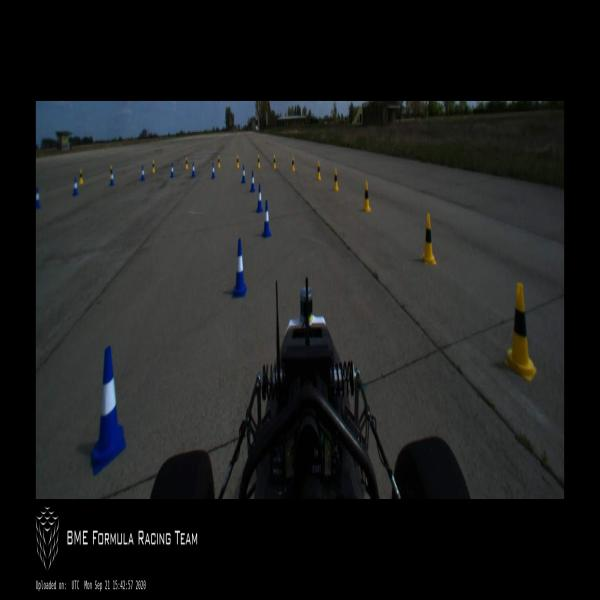blue_cone: (91, 346, 125, 476), (231, 238, 246, 297), (262, 200, 271, 238), (256, 185, 263, 212), (250, 170, 256, 193), (73, 176, 79, 196), (36, 187, 40, 210), (241, 165, 246, 183), (211, 161, 215, 179), (110, 170, 114, 186), (141, 166, 145, 181), (171, 163, 174, 178), (192, 163, 195, 177)
yellow_cone: (505, 282, 536, 380), (421, 212, 436, 265), (362, 182, 371, 212), (333, 169, 338, 192), (291, 156, 295, 173), (80, 169, 84, 184), (317, 161, 320, 181), (273, 154, 276, 169), (217, 156, 220, 169), (236, 156, 239, 169), (257, 155, 260, 168), (152, 160, 155, 172), (110, 166, 112, 179), (186, 157, 188, 170)
